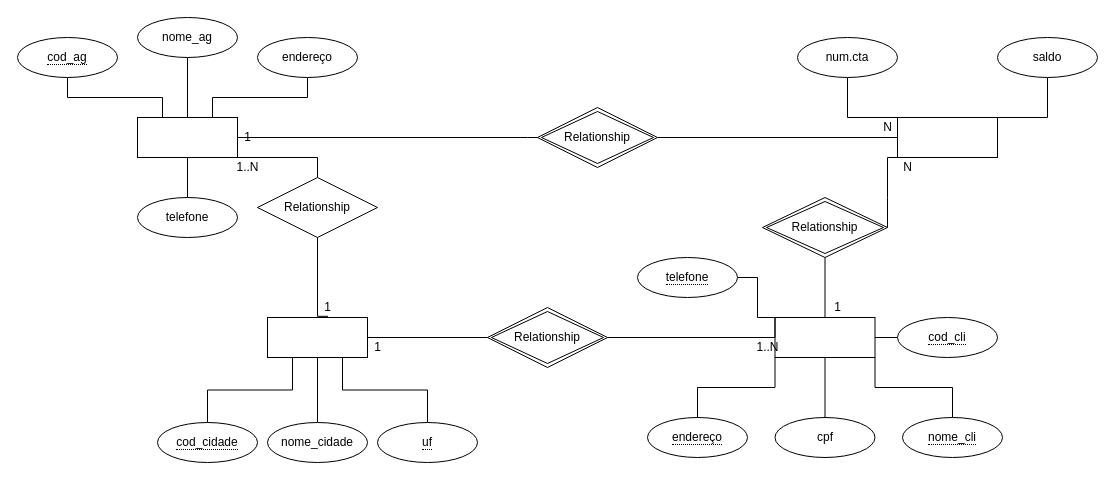
The diagram is 1115 pixels wide and 480 high, and some of its shapes have lost their labels. Here are the shapes that lost their labels. From the top down, the centre of each, then its label:
(187,137): Agencia
(947,137): conta_corrente
(317,337): Cidade
(824,337): clientes
